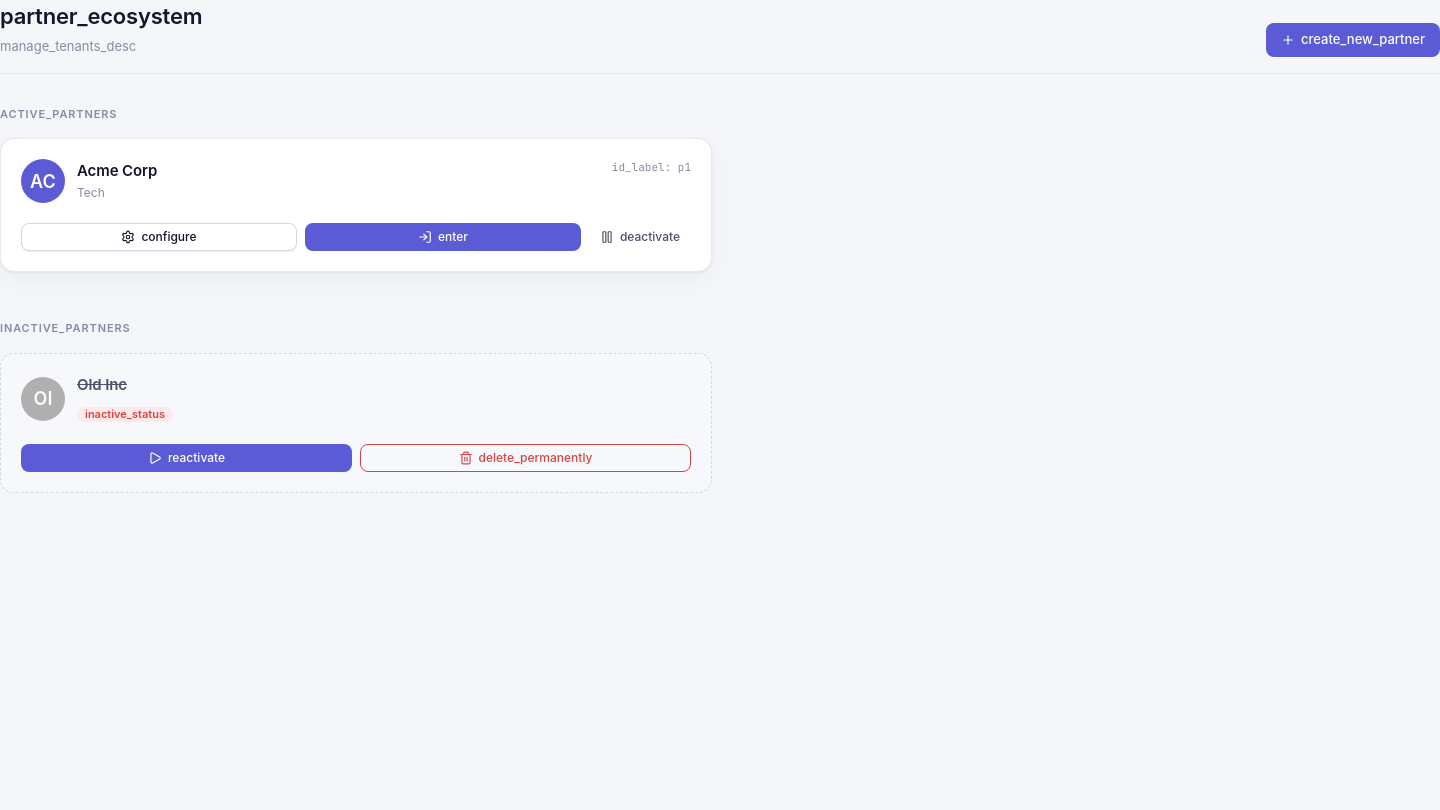
PartnerList › shows deactivate confirmation dialog when deactivate is clicked
Click the button "deactivate" at (640, 237), box [589,223,691,251]
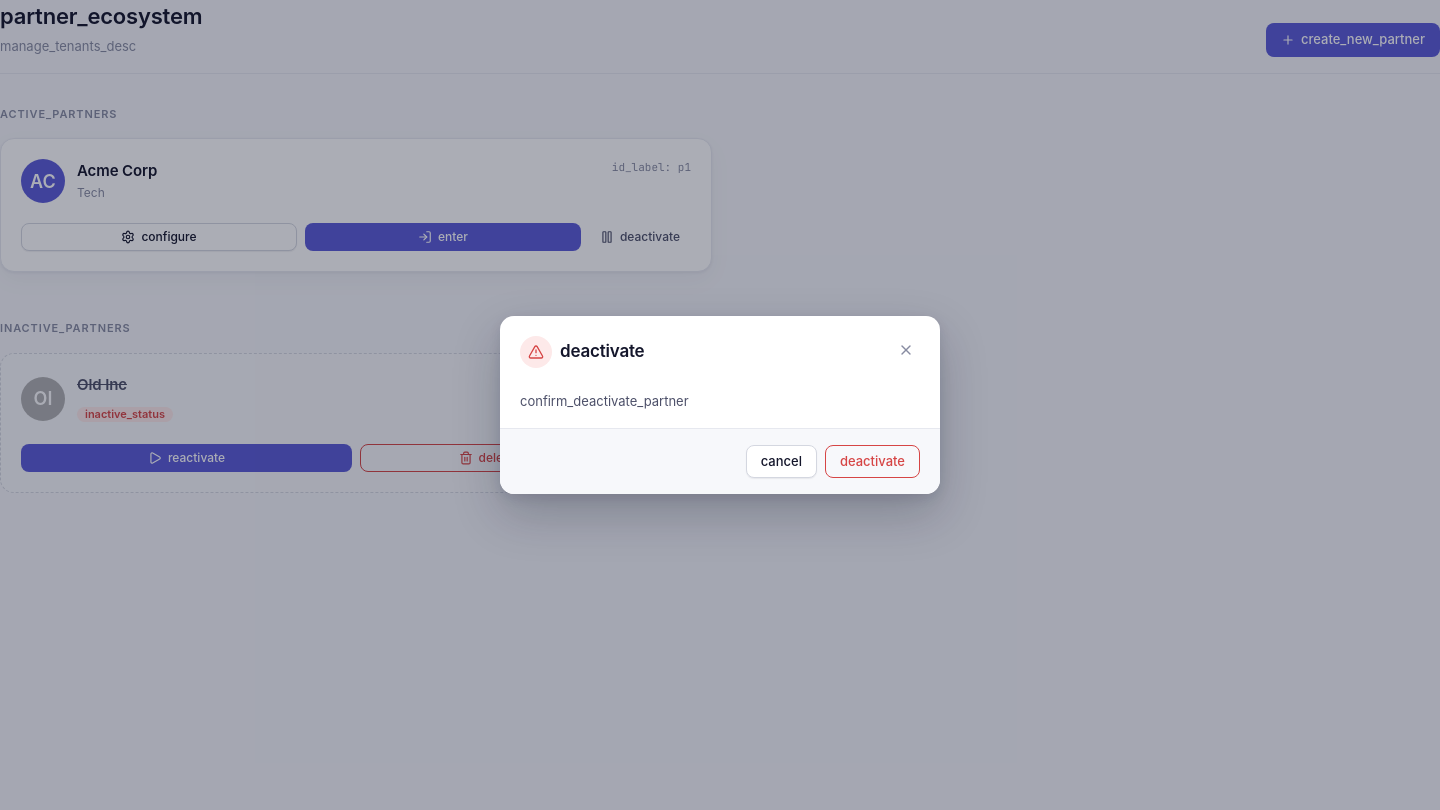
Expected: the text "confirm_deactivate_partner" is shown, [520,393,689,409]
